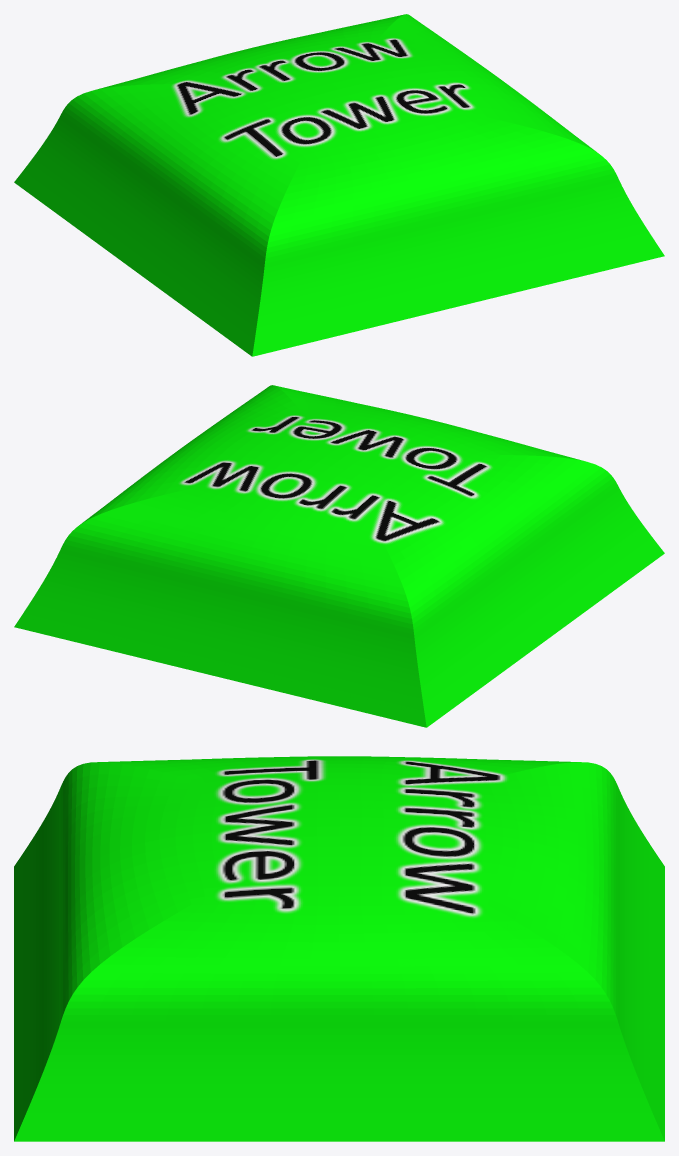
File: ArrowTower.obj
3 renders of one model, top to bottom at view 1: azimuth 30°, elevation 25°; view 2: azimuth 150°, elevation 25°; view 3: azimuth 270°, elevation 25°, orthographic. The views are drawn at different scales.
Visible parts, largest first — view 1: Plane; view 2: Plane; view 3: Plane.
Part boxes in pixels (x1=…): Plane: x1=14, y1=14, x2=664, y2=356; Plane: x1=14, y1=385, x2=664, y2=727; Plane: x1=14, y1=756, x2=664, y2=1141.
Size of the model in its own units: 1 by 0.3009 by 1.
1 material, 1 textured.
